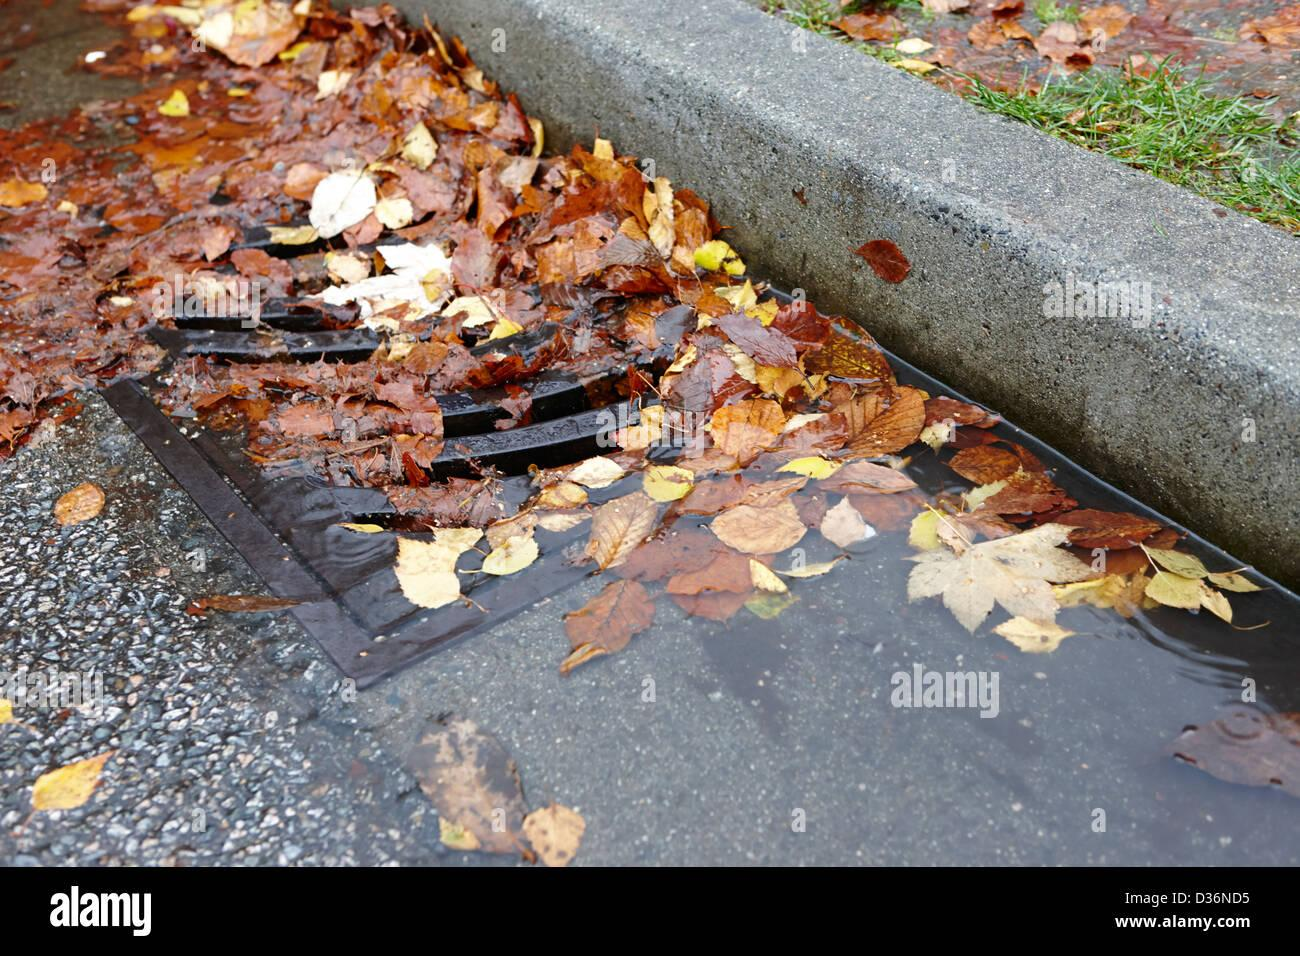Blocked drain: (35, 12, 877, 713)
